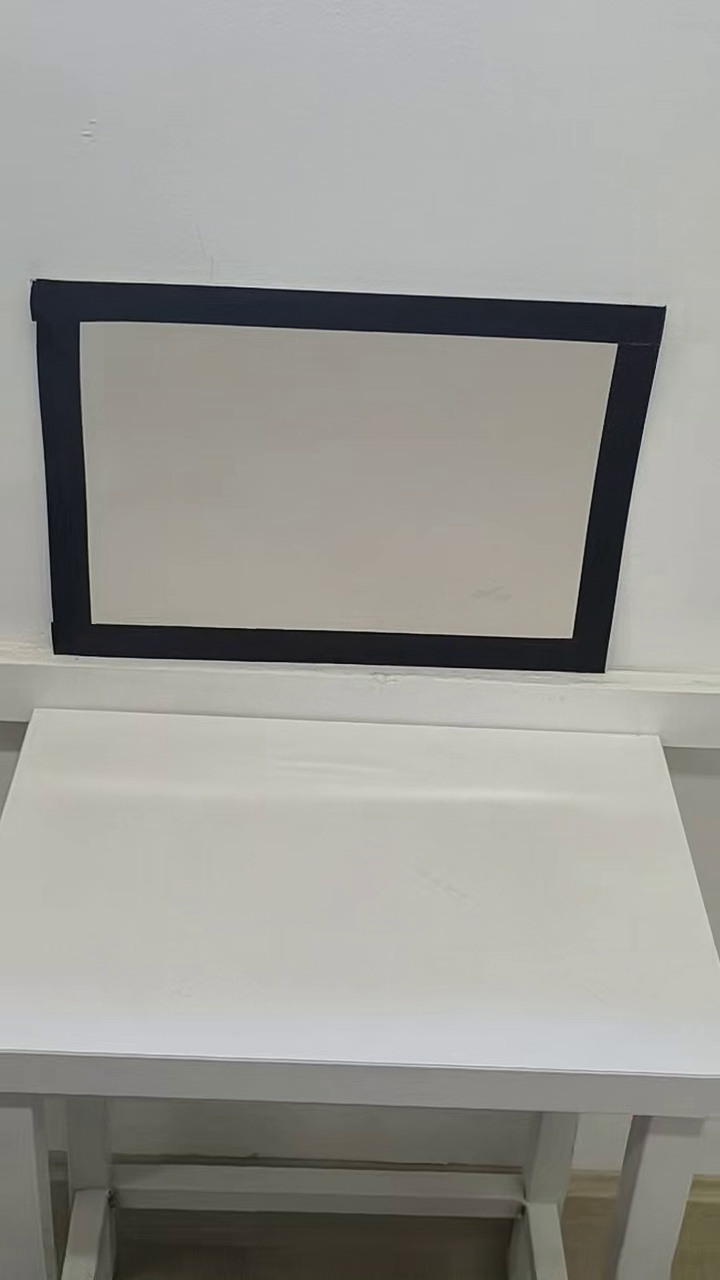board: (34, 276, 667, 681)
